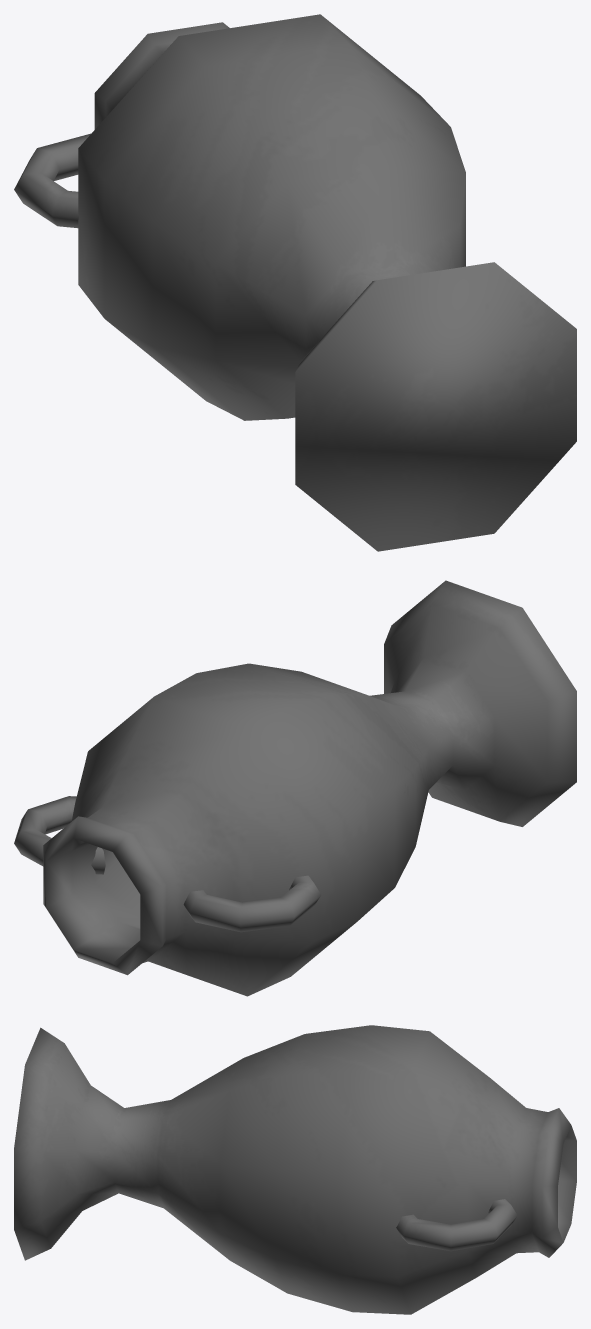
Rendered from Vase.001.fbx.
The picture shows the model from 3 angles, top to bottom: view 1: azimuth 30°, elevation 25°; view 2: azimuth 150°, elevation 25°; view 3: azimuth 270°, elevation 25°; orthographic projection. The views are drawn at different scales.
Parts seen in each view (by area): view 1: Vase.001; view 2: Vase.001; view 3: Vase.001.
Part boxes in pixels (bbox=[...]): Vase.001: bbox=[14, 14, 576, 551]; Vase.001: bbox=[14, 580, 576, 996]; Vase.001: bbox=[14, 1025, 576, 1314].
Size of the model in its own units: 63.97 by 49.76 by 105.
